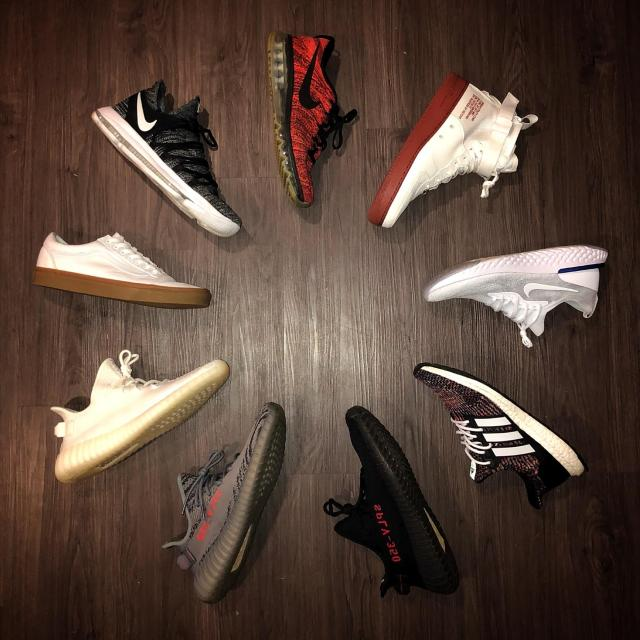shoe: (312, 398, 475, 612), (406, 350, 599, 525), (150, 391, 298, 619), (359, 67, 553, 238), (35, 341, 238, 492), (82, 72, 250, 245), (417, 236, 621, 352), (259, 22, 370, 216), (21, 214, 222, 316)
